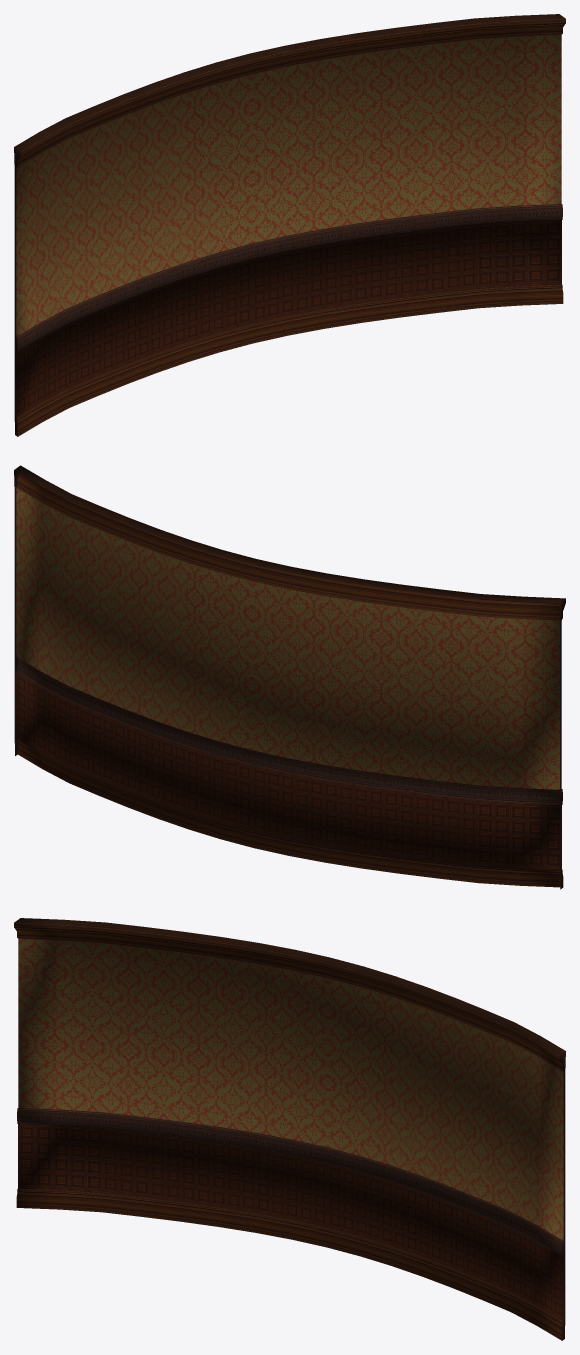
Rendered from Wall1_Curved_Large.fbx.
3 views of the same model, one above another, from view 1: azimuth 30°, elevation 25°; view 2: azimuth 150°, elevation 25°; view 3: azimuth 330°, elevation 25° (orthographic).
Parts seen in each view (by area): view 1: WallSection1Curved; view 2: WallSection1Curved; view 3: WallSection1Curved.
Part boxes in pixels (<box>): WallSection1Curved: <box>14,14,565,436</box>; WallSection1Curved: <box>14,465,565,889</box>; WallSection1Curved: <box>14,918,565,1340</box>.
Size of the model in its own units: 738 by 371 by 102.
